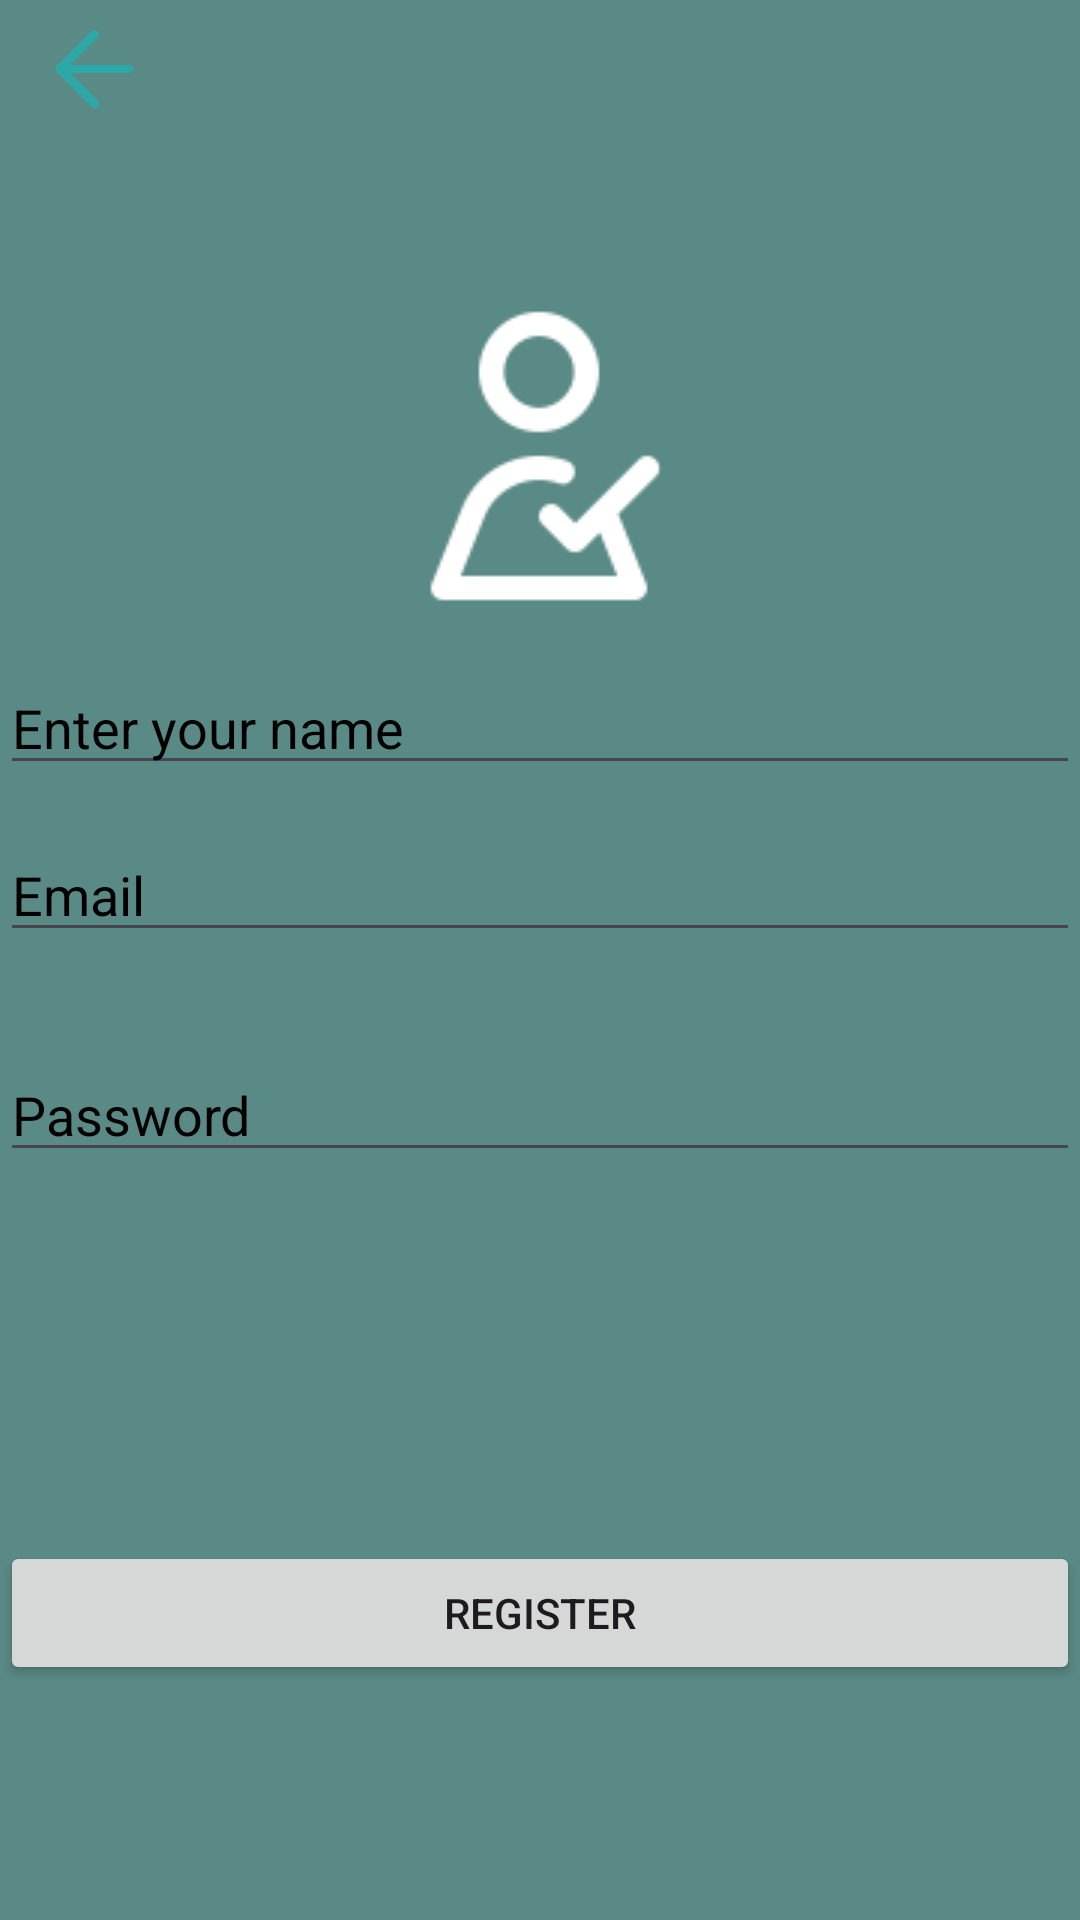

Where to tap for icons on this 1080 × 1920 app screen, as (x=x, y=y):
arrow left: (x=94, y=69)
register: (x=545, y=456)
